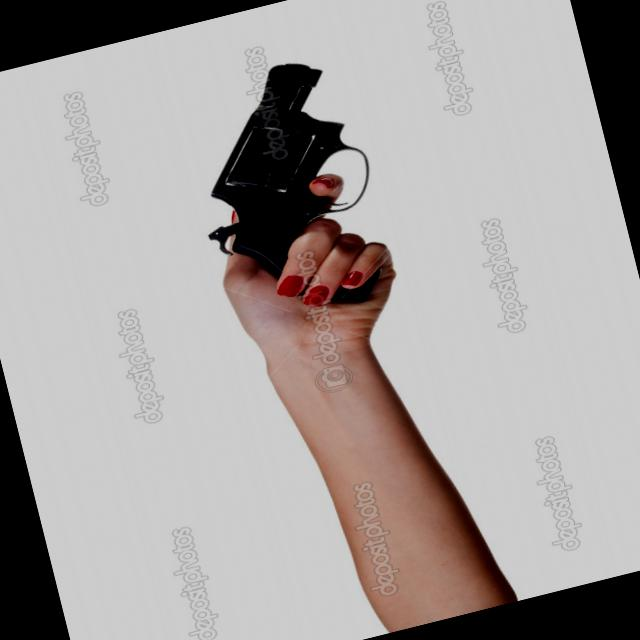handgun: (171, 46, 420, 334)
